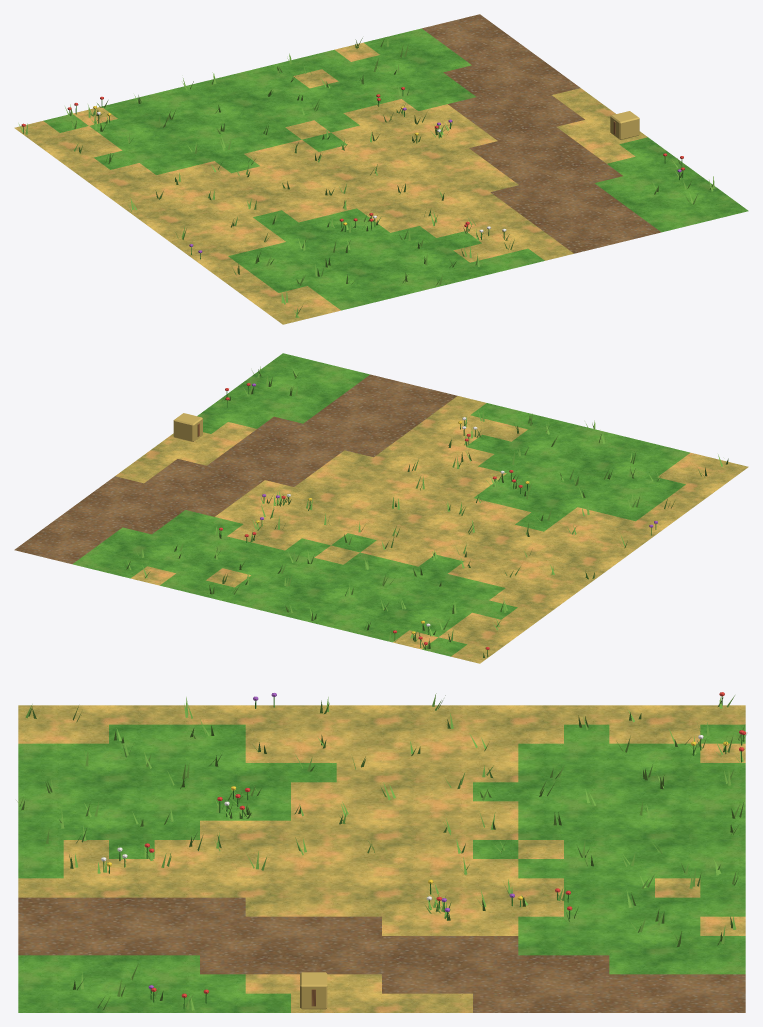
File: chunk_1_13.glb
3 renders of one model, top to bottom at view 1: azimuth 30°, elevation 25°; view 2: azimuth 150°, elevation 25°; view 3: azimuth 270°, elevation 25°, orthographic. The views are drawn at different scales.
Parts seen in each view (by area): view 1: chunk_1_13; view 2: chunk_1_13; view 3: chunk_1_13.
Boxes of the visible parts, <box> form: chunk_1_13: <box>14,14,748,324</box>; chunk_1_13: <box>14,353,748,663</box>; chunk_1_13: <box>16,692,746,1012</box>.
Bounding box in the file's own units: 16.03 × 0.6 × 16.16.
Materials: 11 (5 with a texture image).
